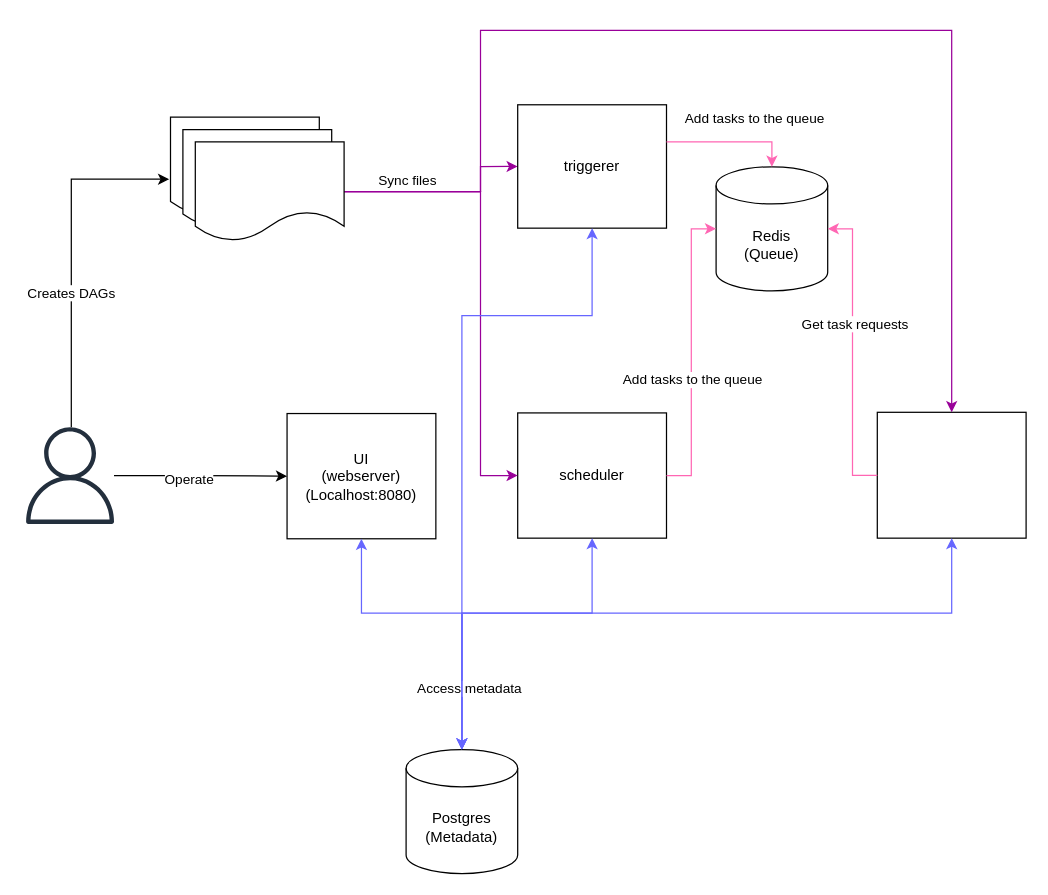
Some shapes in this 1048 by 895 pixel diagram are drawn without their labels. The box of each missing label's shape, as (x1, y1, x2, y2) in pixels:
DAG files: (194, 141, 344, 241)
worker: (876, 411, 1026, 538)
